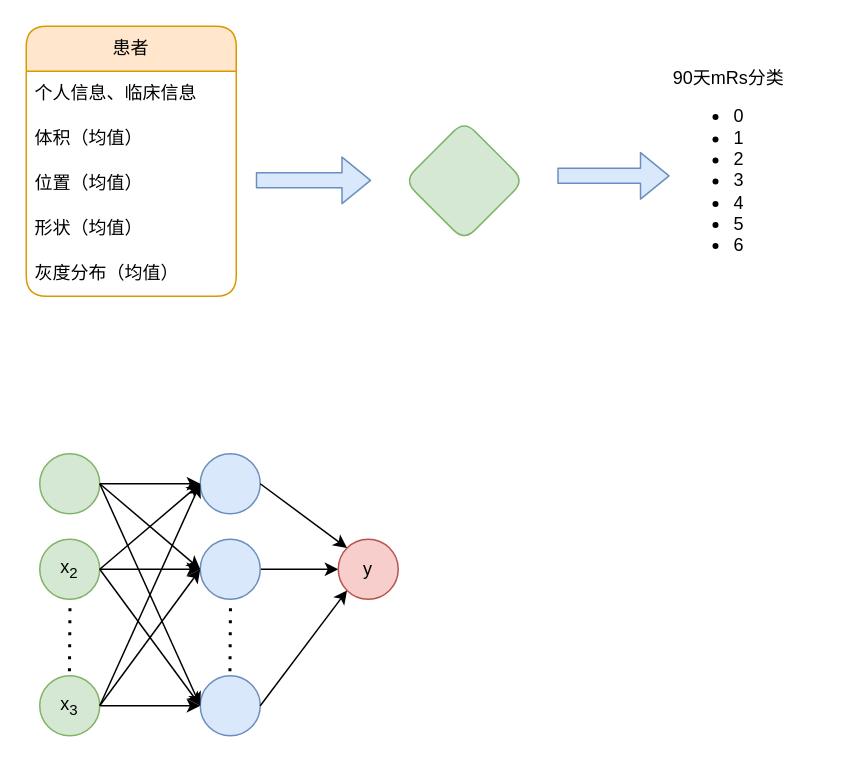
This 843x762 diagram has some shape labels left out. Here are the shapes that lost their labels. From the top down, the centre of each, then its label:
point 463,180: 模型
point 69,483: x 1
